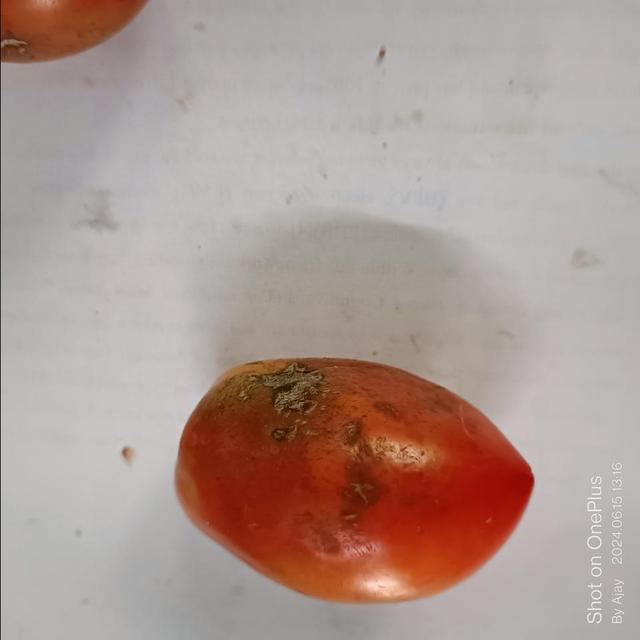Bacterial Spot Fruit: (31, 52, 236, 316)
